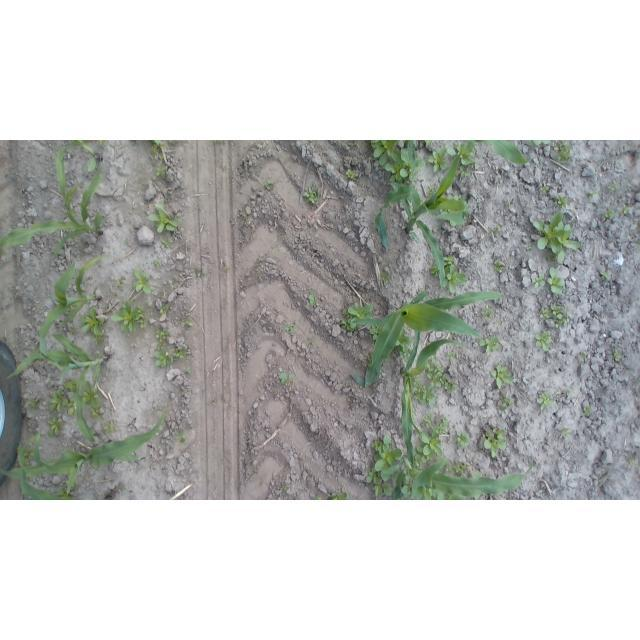Maize: (348, 286, 504, 390), (2, 411, 167, 498), (376, 141, 464, 296), (6, 332, 112, 444), (1, 159, 105, 261), (398, 329, 468, 476), (383, 454, 533, 500), (38, 255, 103, 360), (16, 468, 74, 500), (473, 140, 530, 166), (60, 140, 104, 164), (408, 141, 419, 182)
Weeds: (531, 210, 582, 266), (365, 433, 403, 498), (369, 141, 425, 184), (429, 254, 467, 293), (155, 328, 188, 370), (144, 203, 185, 234), (426, 358, 458, 395), (110, 301, 141, 338), (413, 433, 443, 469), (340, 300, 372, 332), (481, 425, 510, 459), (413, 376, 440, 408), (420, 411, 453, 437), (539, 302, 571, 328), (449, 193, 470, 229), (80, 307, 105, 335), (448, 140, 476, 164), (489, 364, 514, 389), (47, 387, 69, 414), (547, 266, 566, 297), (132, 266, 153, 294), (428, 145, 449, 171), (83, 381, 101, 409), (453, 428, 474, 450), (479, 335, 502, 355), (396, 328, 415, 352), (534, 329, 554, 351), (136, 305, 153, 330), (46, 418, 66, 439), (536, 392, 556, 413), (554, 140, 572, 162), (15, 444, 33, 465), (497, 394, 515, 415), (301, 185, 319, 206), (25, 394, 40, 413), (177, 312, 194, 328), (150, 143, 165, 161), (451, 461, 470, 475), (531, 272, 547, 288), (554, 194, 569, 210), (173, 429, 190, 443), (103, 421, 118, 436), (279, 371, 294, 386), (368, 325, 382, 341), (525, 140, 552, 148), (64, 378, 76, 395), (261, 177, 275, 191), (345, 169, 360, 182), (155, 164, 168, 179), (378, 270, 390, 286), (560, 425, 573, 439), (598, 268, 611, 282), (308, 288, 317, 308), (493, 259, 505, 274), (86, 405, 102, 416), (326, 492, 348, 500), (613, 347, 624, 363), (482, 305, 493, 321), (160, 236, 174, 248), (55, 487, 69, 499), (282, 322, 296, 334), (459, 165, 470, 180), (619, 201, 630, 215), (444, 350, 456, 362), (91, 335, 104, 346), (427, 183, 438, 195), (577, 349, 587, 362), (114, 276, 124, 288), (603, 209, 614, 219), (608, 182, 618, 193), (506, 198, 515, 210), (280, 481, 288, 494), (588, 188, 598, 198), (401, 352, 410, 363), (93, 350, 105, 358), (159, 304, 169, 313), (194, 267, 203, 277), (539, 183, 549, 192), (153, 258, 164, 266), (582, 406, 590, 417), (524, 240, 532, 251), (494, 224, 501, 236), (348, 140, 357, 149), (420, 140, 433, 145), (69, 326, 76, 335), (445, 464, 452, 472), (242, 212, 249, 220), (117, 484, 124, 490), (313, 496, 321, 501), (99, 140, 106, 145), (214, 141, 223, 144), (124, 241, 128, 246), (222, 266, 226, 270), (355, 418, 359, 422)
